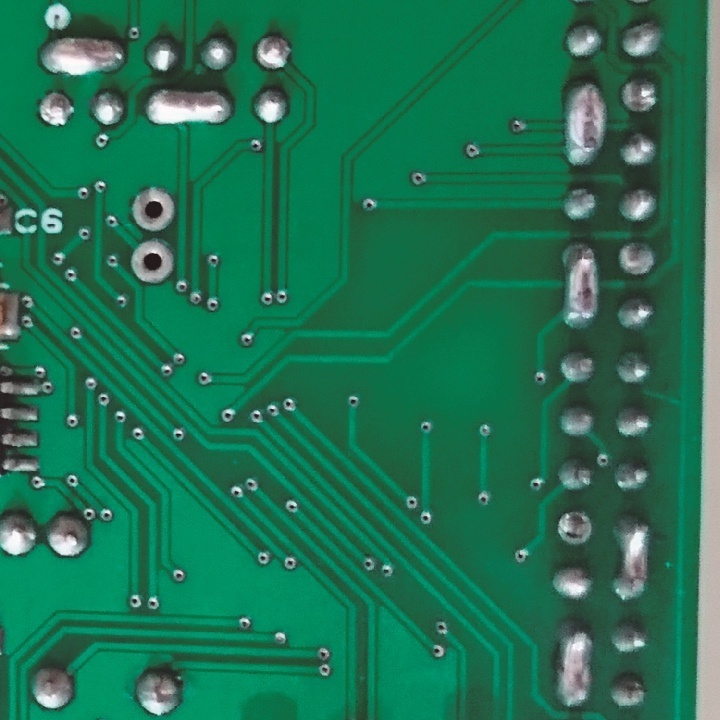F: (130, 184, 178, 236), (129, 235, 175, 289), (616, 75, 661, 120), (556, 506, 596, 551), (617, 241, 661, 280)
P: (35, 32, 128, 75), (144, 86, 233, 129), (564, 78, 605, 168), (553, 623, 592, 712), (611, 513, 652, 597), (564, 243, 601, 330)
